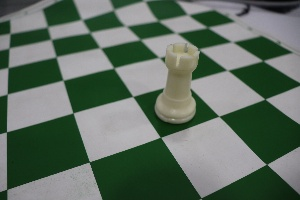white_rook: (147, 29, 203, 131)
